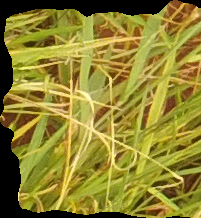grass: (1, 1, 200, 217)
